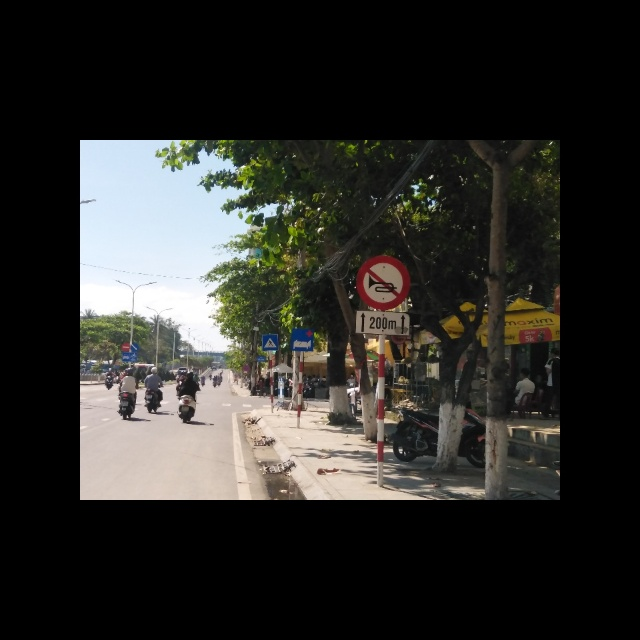Bệnh viện: (291, 329, 315, 352)
Cấm bấm còi: (357, 255, 412, 311)
Đường dành cho người đi bộ: (261, 334, 280, 351)
